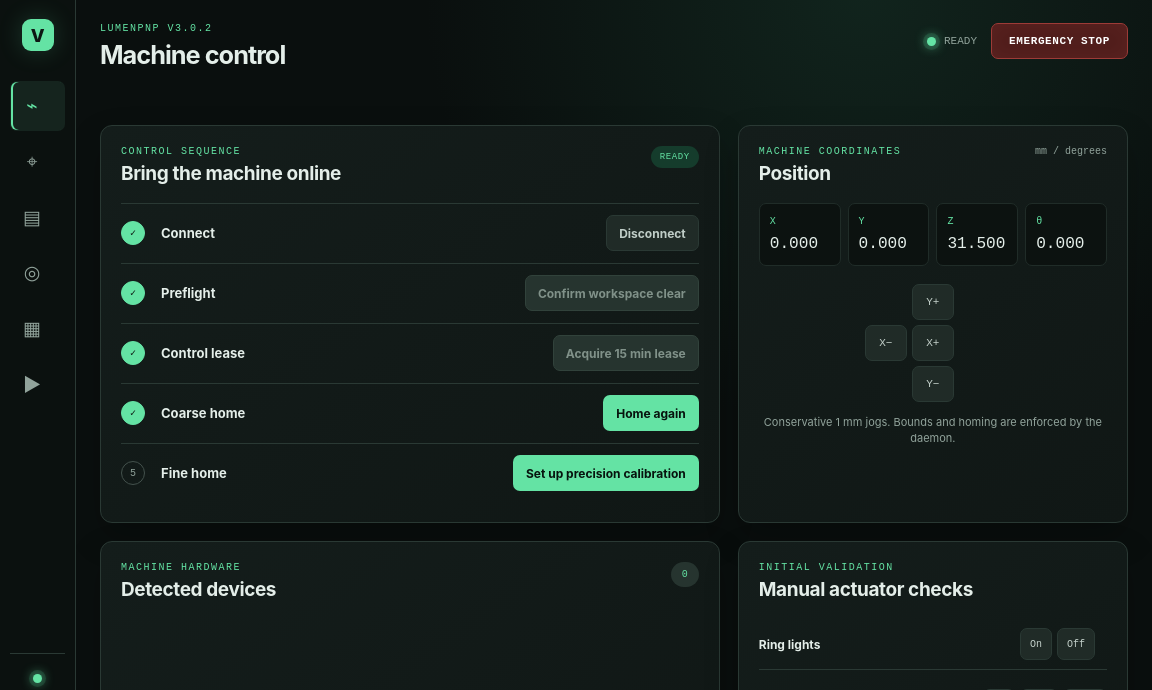
Scenario: calibration progress › replaces a superseded run failure with current snapshot state
Click the button "Set up precision calibration" at coordinates (606, 473), box [513, 455, 699, 491]
(page scrolled)
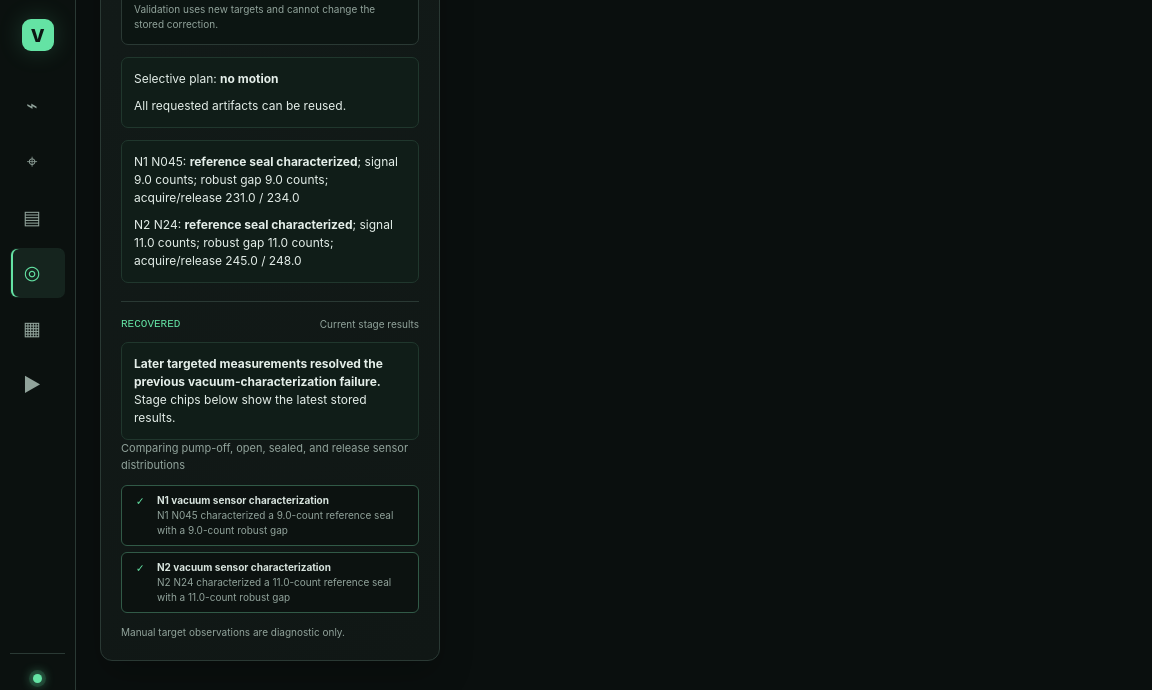
expect the text "Recovered" is shown: met, box [121, 318, 180, 330]
expect the text "Later targeted measurements resolved" is shown: met, box [134, 356, 383, 389]
expect the text "N1 N045 characterized a 9.0-count reference seal" is shown: met, box [157, 509, 393, 536]
